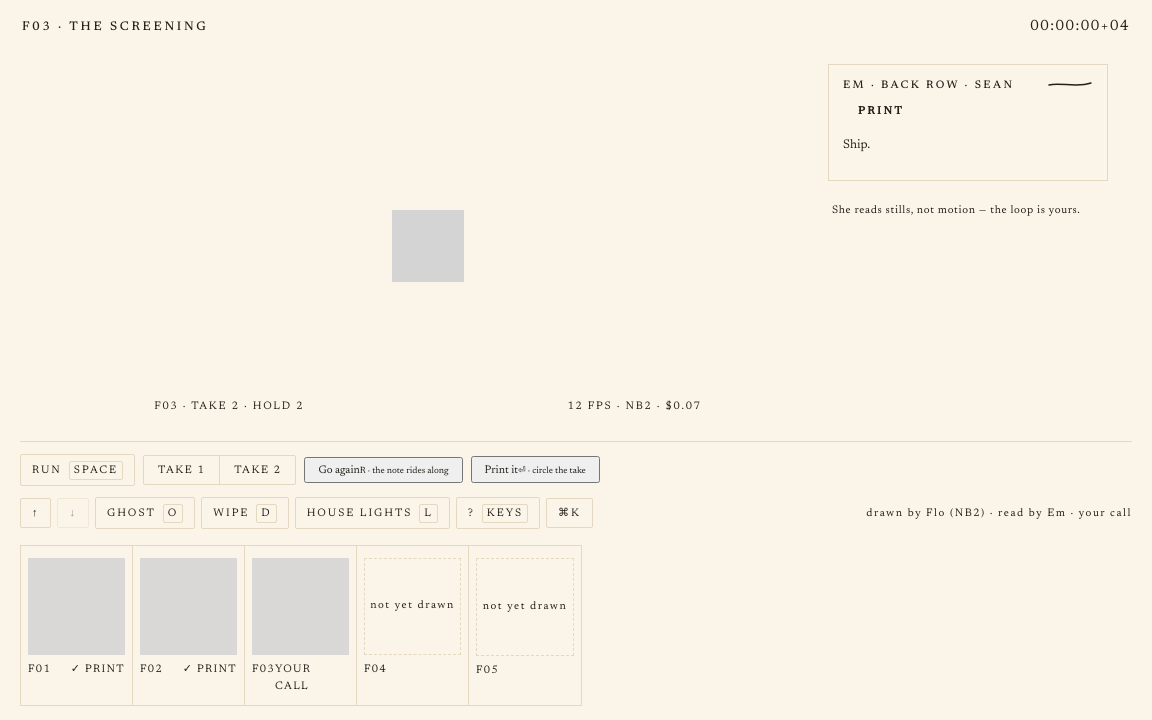
Test: EyeGate — take switching (click; keys are the loop task) › clicking a take swaps the stage image and the burn-in
This screenshot has width=1152, height=720.
Expected: the element with test id "stage" is shown, [154,210,702,412]
Click the button "TAKE 1": (182,470) [144,456,220,484]
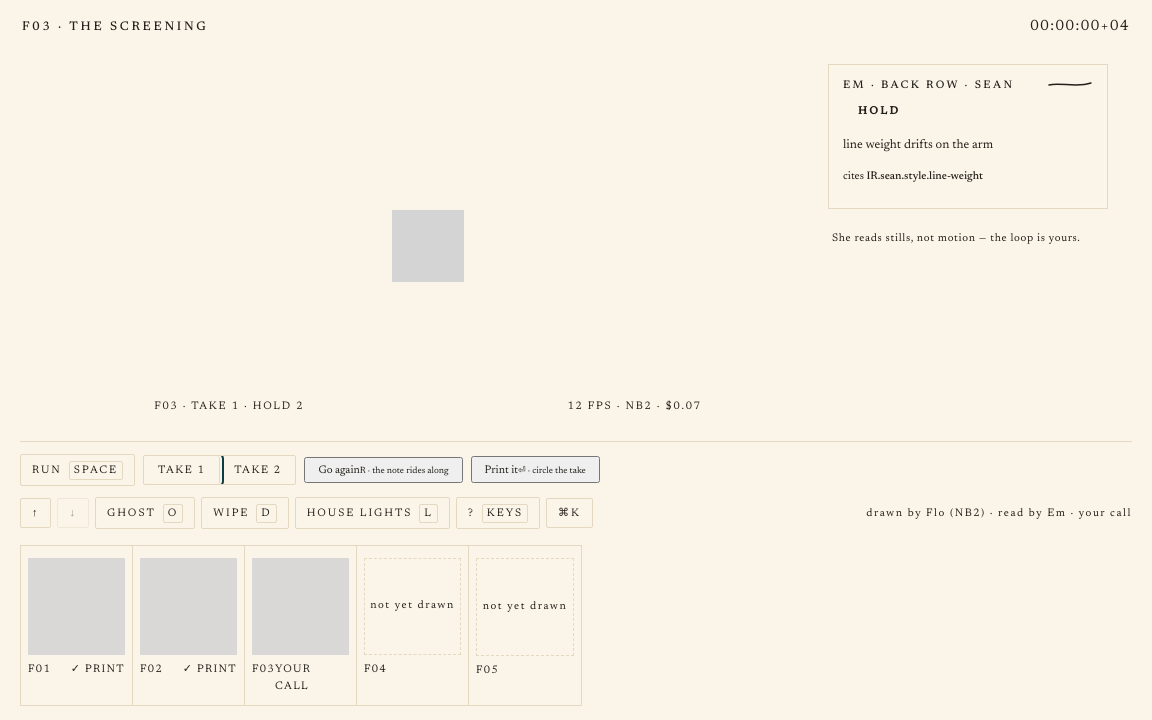
Now the text "F03 · TAKE 1 · HOLD 2" is shown, box [154,398,304,415]
